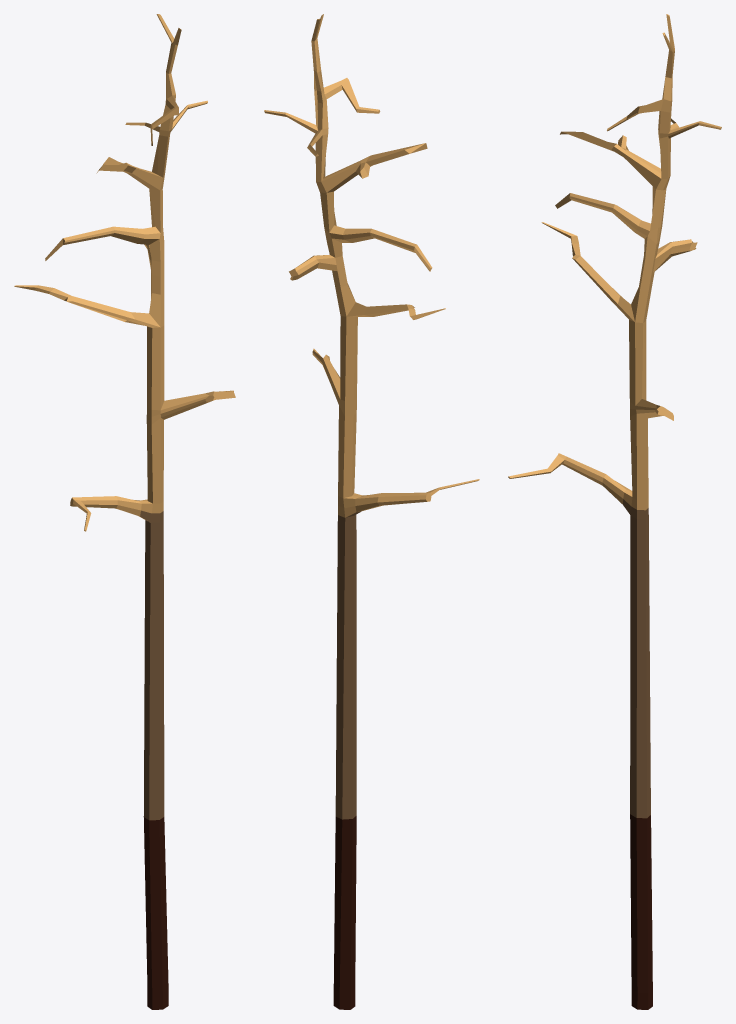
Rendered from pine_dead.fbx.
3 views of the same model, side by side, from view 1: azimuth 30°, elevation 25°; view 2: azimuth 150°, elevation 25°; view 3: azimuth 330°, elevation 25° (orthographic).
Parts seen in each view (by area): view 1: Cube; view 2: Cube; view 3: Cube.
Boxes of the visible parts, box(x1,y1,x2,y2) form: Cube: box(14, 14, 235, 1009); Cube: box(264, 14, 479, 1009); Cube: box(508, 14, 721, 1009).
Bounding box in the file's own units: 1330 × 2260 × 11368.
